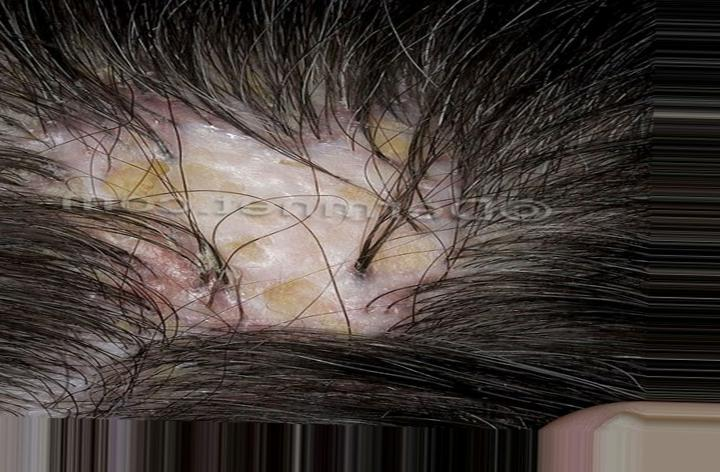Folliculitis: (71, 88, 450, 352)
